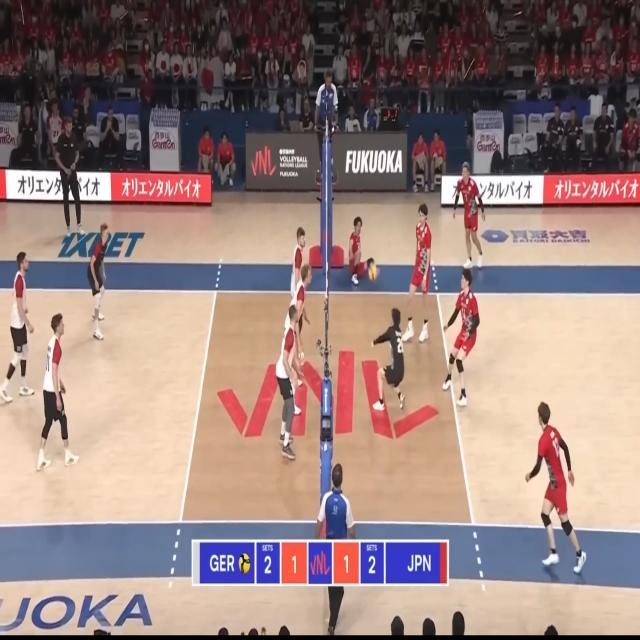ball: (368, 262, 377, 280)
